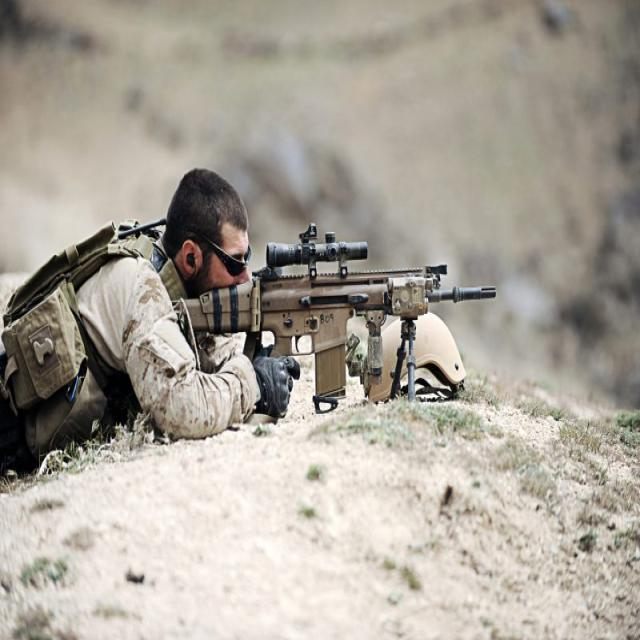Rifle: (180, 224, 494, 413)
